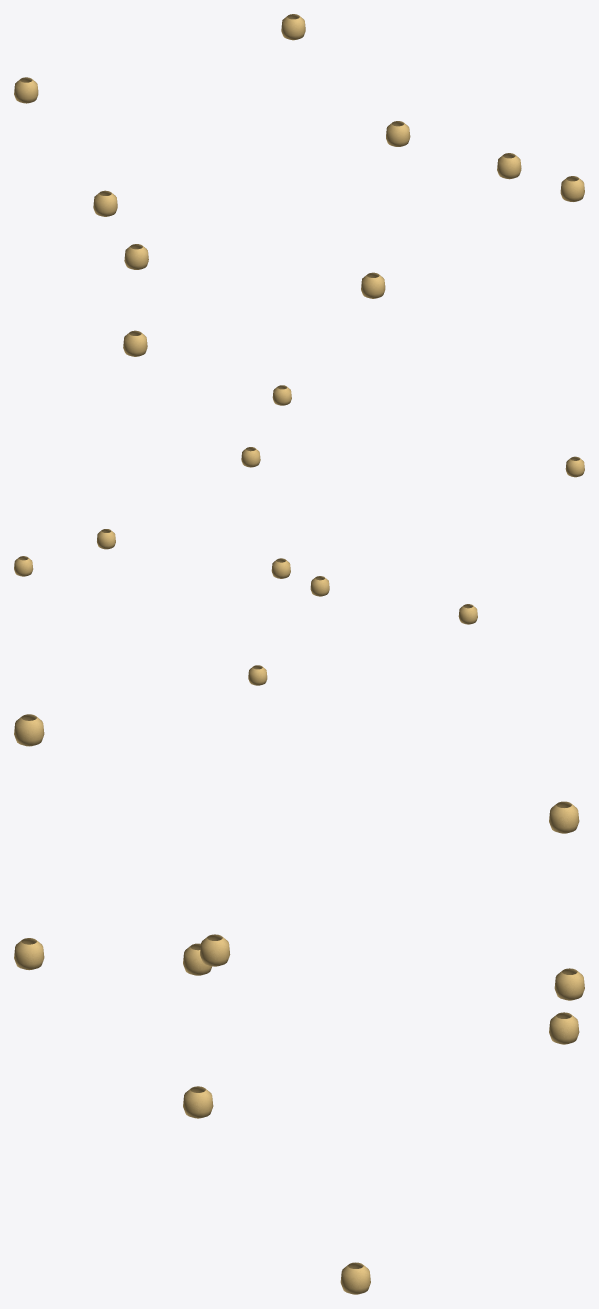
The model's file is tea_lanterns.glb.
3 views of the same model, one above another, from view 1: azimuth 30°, elevation 25°; view 2: azimuth 150°, elevation 25°; view 3: azimuth 270°, elevation 25° (orthographic). The views are drawn at different scales.
Visible parts, largest first — view 1: tea_lanterns0; view 2: tea_lanterns0; view 3: tea_lanterns0.
Boxes of the visible parts, x1,y1,x2,y2 form: tea_lanterns0: (14,14,584,356); tea_lanterns0: (14,385,584,685); tea_lanterns0: (14,714,584,1294).
Bounding box in the file's own units: 14.89 × 4.56 × 10.14.
Materials: 1 (1 with a texture image).
